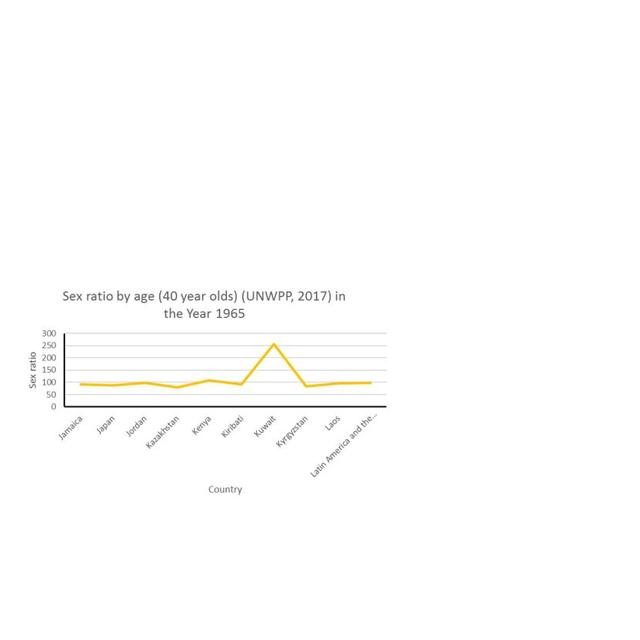Graph: (17, 282, 390, 502)
